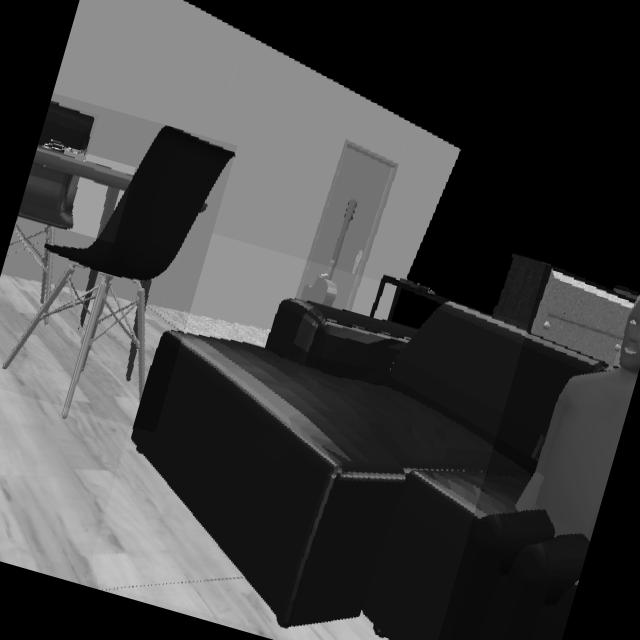chair: (1, 126, 234, 408), (37, 103, 93, 161)
person: (438, 295, 640, 640)
sofa: (129, 300, 610, 640)
table: (30, 146, 132, 238)
